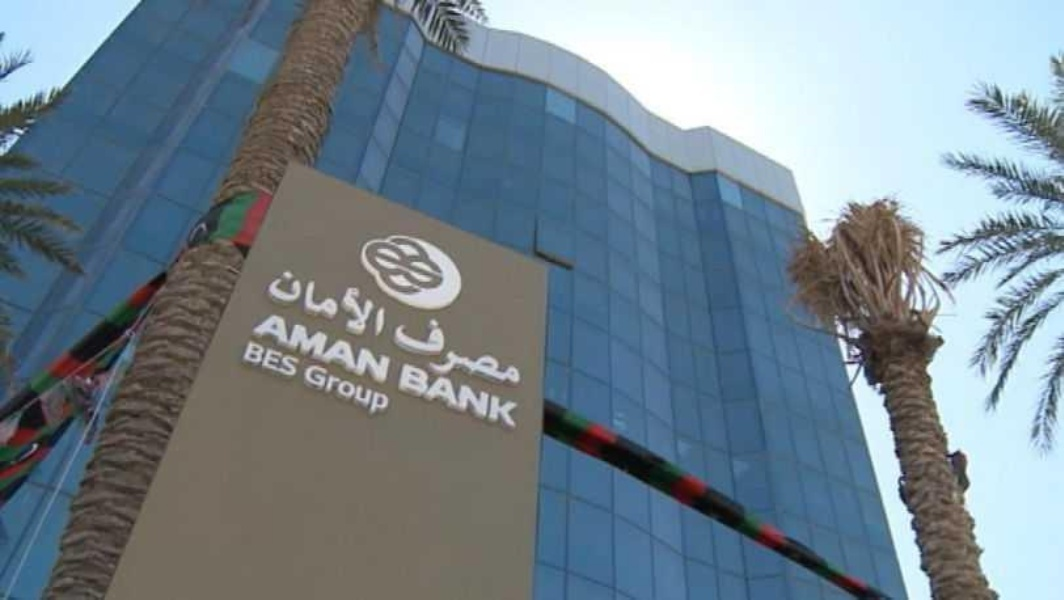text: (417, 307, 432, 401), (433, 307, 448, 401), (449, 307, 464, 401), (465, 307, 480, 401), (481, 307, 496, 401), (497, 307, 512, 401), (289, 263, 304, 346), (305, 263, 320, 346), (321, 263, 336, 346), (337, 263, 352, 346), (353, 263, 368, 346), (369, 263, 384, 346), (513, 307, 526, 401), (273, 311, 288, 390), (289, 311, 304, 390), (305, 311, 320, 390), (321, 311, 336, 390), (337, 311, 352, 390), (353, 311, 368, 390), (369, 311, 384, 390), (417, 359, 432, 432), (433, 359, 448, 432), (449, 359, 464, 432), (465, 359, 480, 432), (481, 359, 496, 432), (497, 359, 512, 432), (321, 358, 336, 424), (337, 358, 352, 424), (353, 358, 368, 424), (369, 358, 384, 424), (403, 359, 416, 432), (385, 263, 396, 346), (308, 358, 320, 424), (385, 311, 394, 390), (289, 337, 305, 380), (513, 359, 522, 432), (257, 337, 272, 380), (273, 337, 288, 380), (385, 358, 394, 424), (246, 337, 256, 380), (284, 263, 288, 346), (270, 311, 272, 390), (415, 307, 416, 401)
